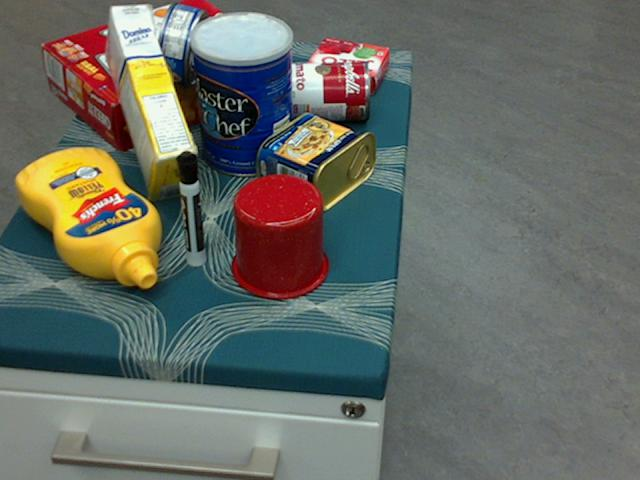cracker_box: (43, 0, 274, 152)
gelatin_box: (304, 39, 388, 92)
large_marker: (174, 150, 205, 264)
master_chef_can: (190, 11, 294, 176)
mug: (229, 172, 328, 298)
mustard_bottle: (15, 148, 160, 287)
potted_meat_can: (256, 110, 376, 212)
sugar_box: (105, 4, 199, 199)
tomato_soup_can: (277, 59, 369, 121)
tuna_fish_can: (155, 0, 208, 86)
